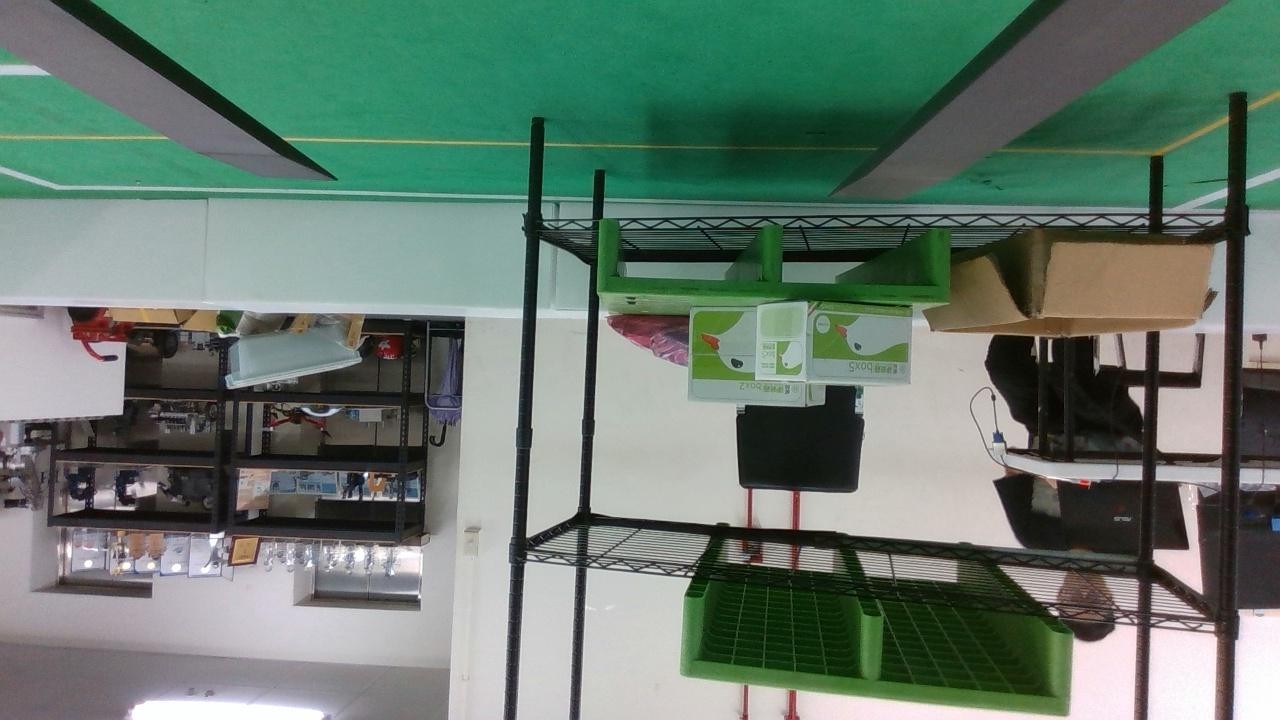Pallet: (674, 584, 1077, 717), (598, 212, 955, 303)
